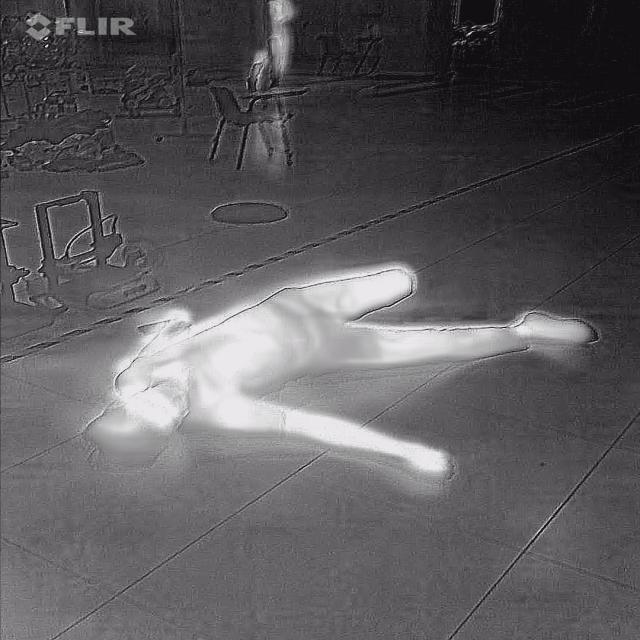Victim: (75, 258, 610, 494)
